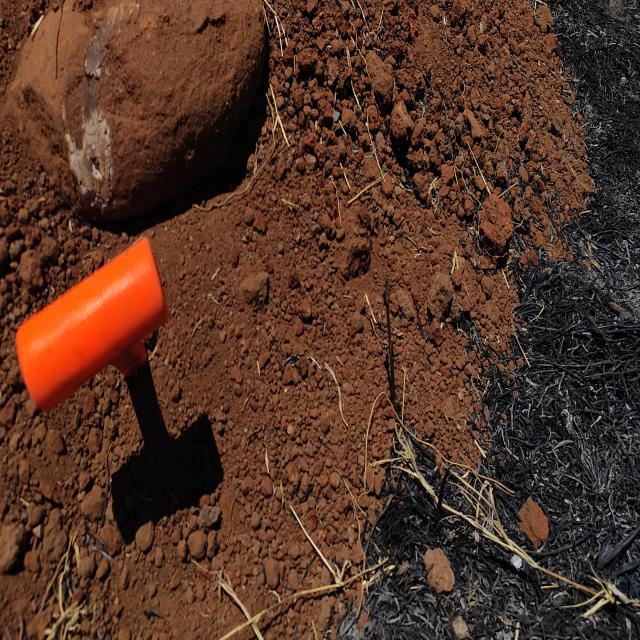Orange_hammer: (15, 235, 168, 412)
rock: (1, 0, 268, 226)
